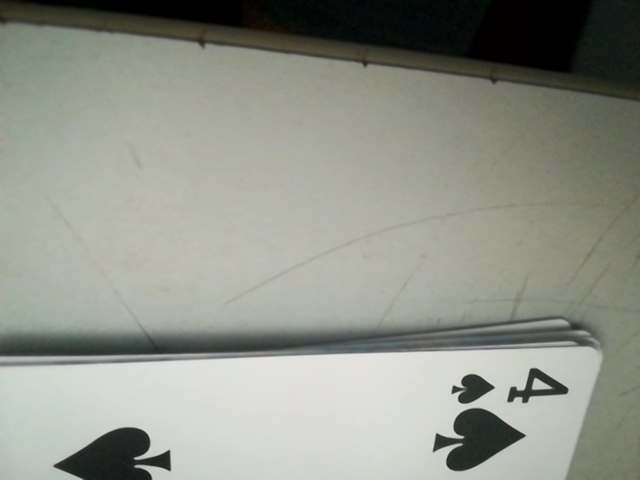ht 4: (440, 359, 579, 410)
